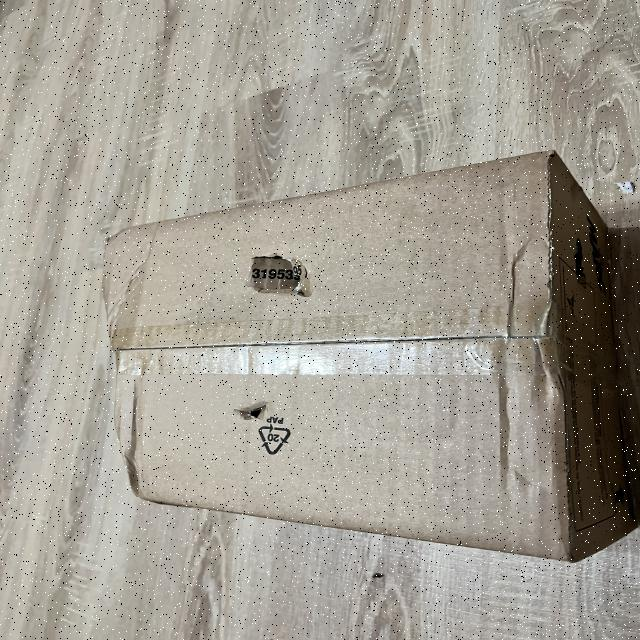damaged: (98, 141, 639, 570), (502, 244, 552, 430), (230, 246, 326, 309), (120, 383, 148, 497), (218, 392, 289, 429)
